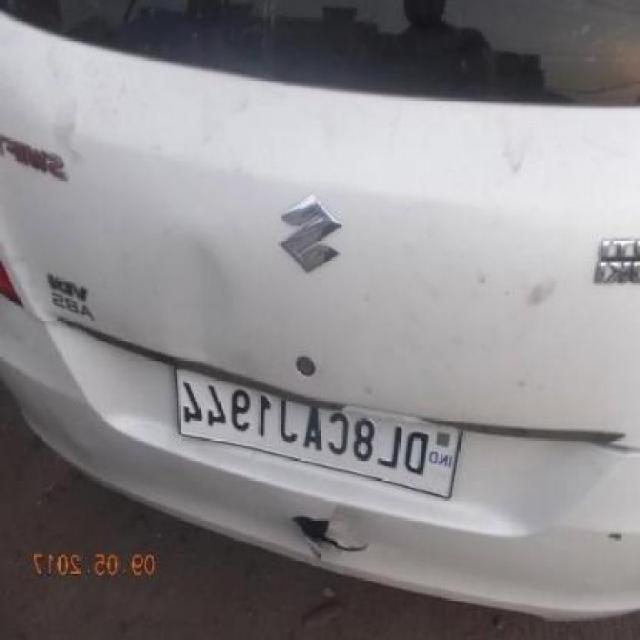damage: (158, 227, 243, 365), (288, 511, 369, 568)
